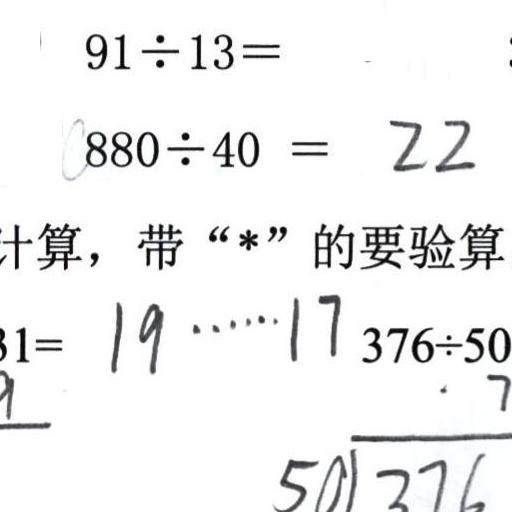ans: (101, 286, 342, 374), (383, 108, 475, 175)
